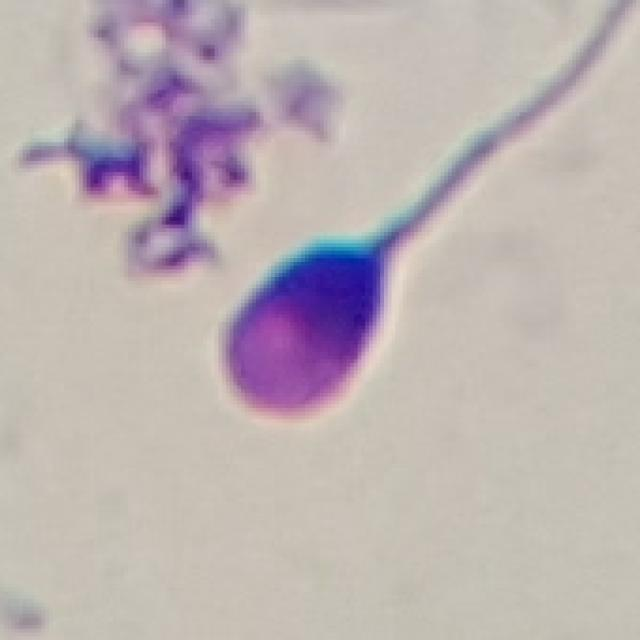normal sperm: (219, 172, 460, 418)
